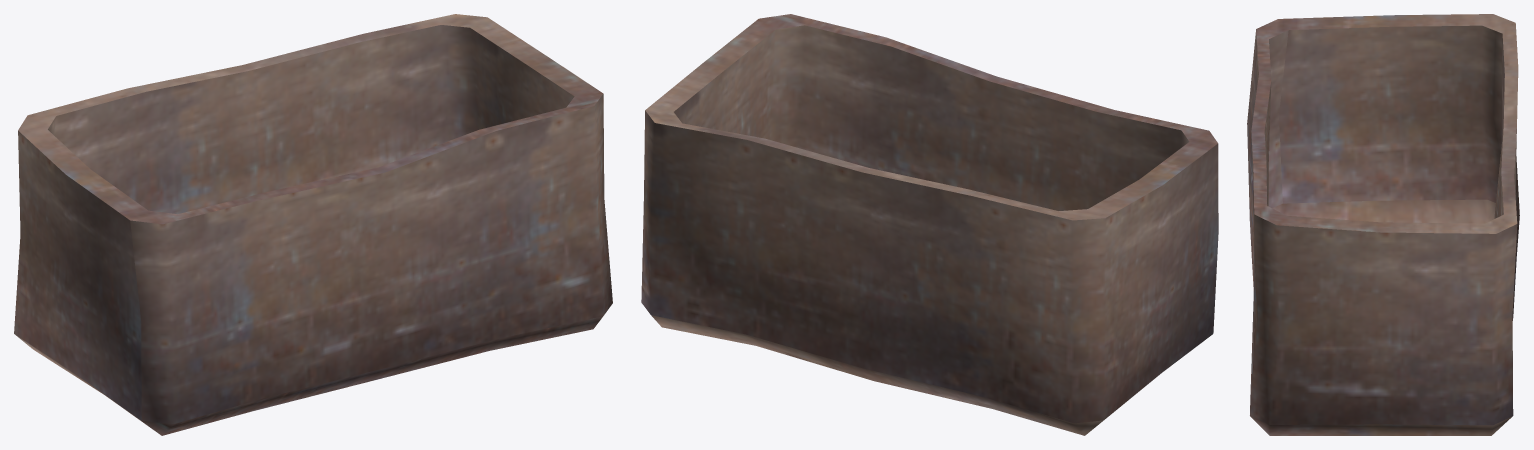
Rendered from prop_trash_bin_cacamba.glb.
The picture shows the model from 3 angles, left to right: view 1: azimuth 30°, elevation 25°; view 2: azimuth 150°, elevation 25°; view 3: azimuth 270°, elevation 25°; orthographic projection. The views are drawn at different scales.
Visible parts, largest first — view 1: prop_trash_bin_cacamba_mesh; view 2: prop_trash_bin_cacamba_mesh; view 3: prop_trash_bin_cacamba_mesh.
Part boxes in pixels (x1,y1,x2,y2): prop_trash_bin_cacamba_mesh: [14, 14, 612, 435]; prop_trash_bin_cacamba_mesh: [641, 14, 1218, 435]; prop_trash_bin_cacamba_mesh: [1247, 14, 1519, 435].
Bounding box in the file's own units: 2.8 × 1.3 × 1.45.
1 material, 1 textured.
